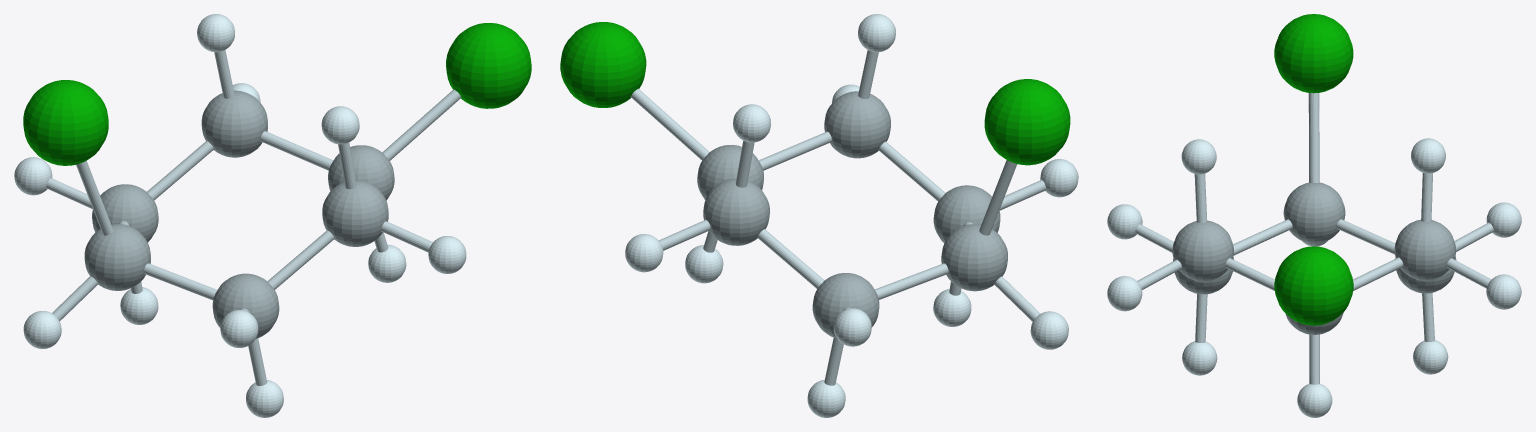
File: irc_step_000.glb
3 renders of one model, left to right at view 1: azimuth 30°, elevation 25°; view 2: azimuth 150°, elevation 25°; view 3: azimuth 270°, elevation 25°, orthographic. The views are drawn at different scales.
Visible parts, largest first — view 1: Renderer Node; view 2: Renderer Node; view 3: Renderer Node.
Boxes of the visible parts, left/top/right/bottom form: Renderer Node: left=14, top=14, right=531, bottom=417; Renderer Node: left=560, top=14, right=1078, bottom=417; Renderer Node: left=1107, top=14, right=1521, bottom=417.
Size of the model in its own units: 6.02 by 3.69 by 4.7.
